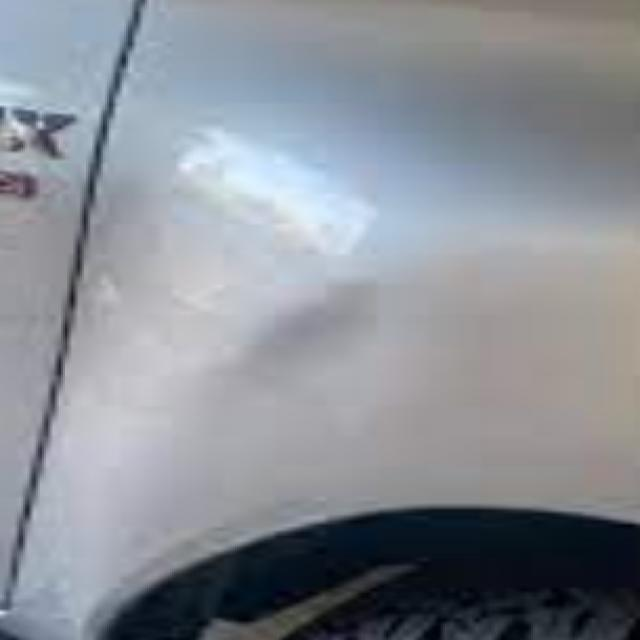dents: (197, 277, 427, 433)
